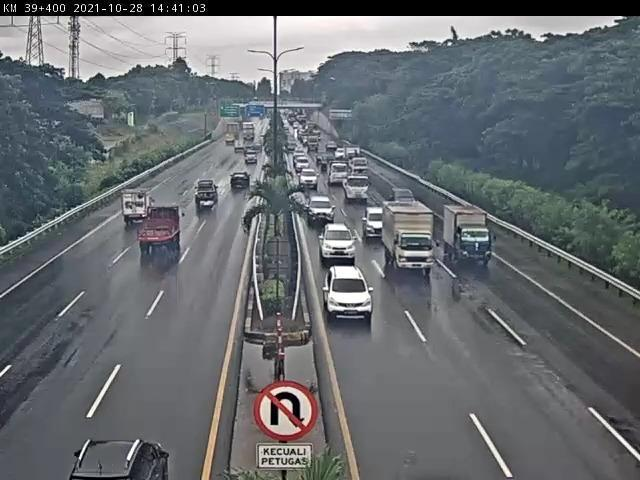car: (325, 267, 374, 324), (320, 224, 359, 263), (306, 196, 336, 228), (194, 178, 221, 208), (364, 207, 386, 243)
truck: (383, 203, 436, 276), (444, 205, 496, 271), (138, 204, 185, 252), (120, 189, 155, 226)
